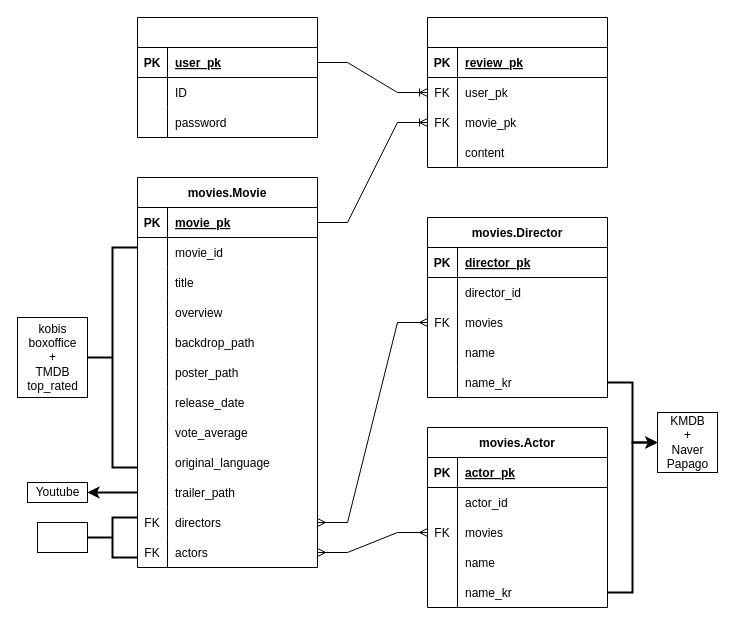
Some shapes in this 735 by 625 pixel diagram are drawn without their labels. Here are the shapes that lost their labels. From the top down, the box of each, then its label:
(136, 16, 318, 138): accounts.User
(426, 16, 608, 168): movies.Review
(36, 522, 88, 552): TMDB credit
